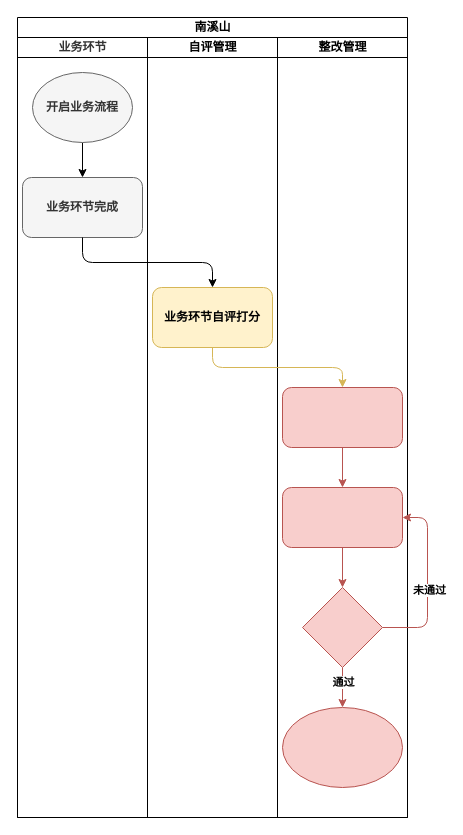
Image size: 463x835. Some labels were removed from this diagram. Here are the shapes that lost their labels. From the top down, the centre of each, then its label:
At (342,417): "新建其他评价".
At (342,517): "提交其他评价".
At (342,627): "审核".
At (342,747): "完成其他评价".
